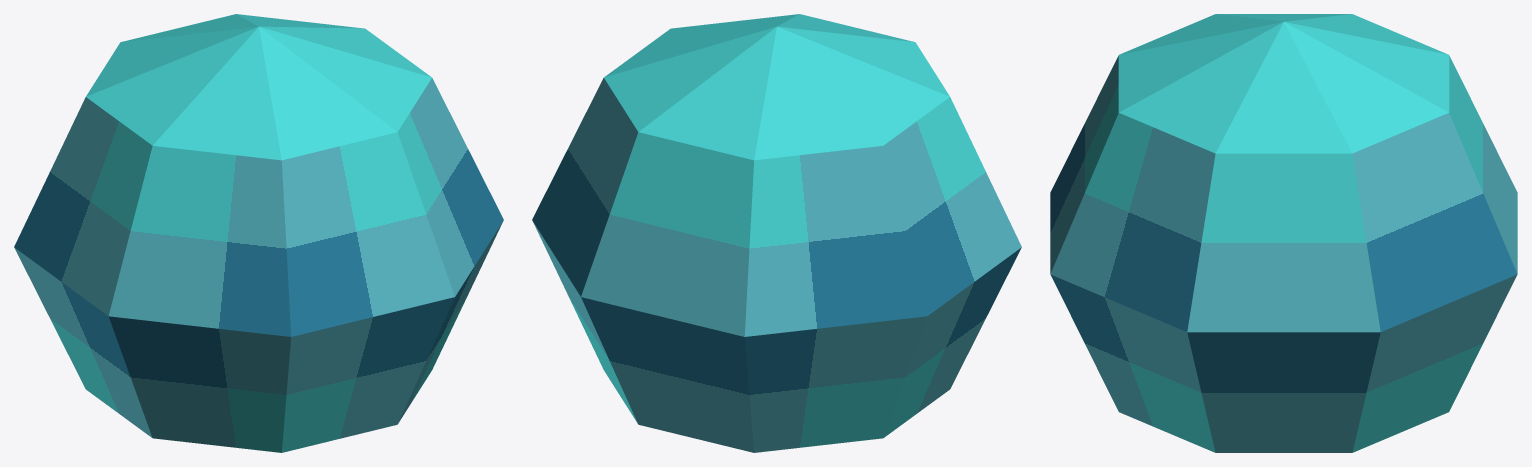
The model's file is bead.gltf.
The picture shows the model from 3 angles, left to right: view 1: azimuth 30°, elevation 25°; view 2: azimuth 150°, elevation 25°; view 3: azimuth 270°, elevation 25°; orthographic projection. The views are drawn at different scales.
Parts seen in each view (by area): view 1: sphere; view 2: sphere; view 3: sphere.
Boxes of the visible parts, box(x1,y1,x2,y2) form: sphere: box(14, 14, 503, 452); sphere: box(532, 14, 1021, 452); sphere: box(1050, 14, 1517, 452).
Size of the model in its own units: 0.25 by 0.25 by 0.25.
1 material, 1 textured.
